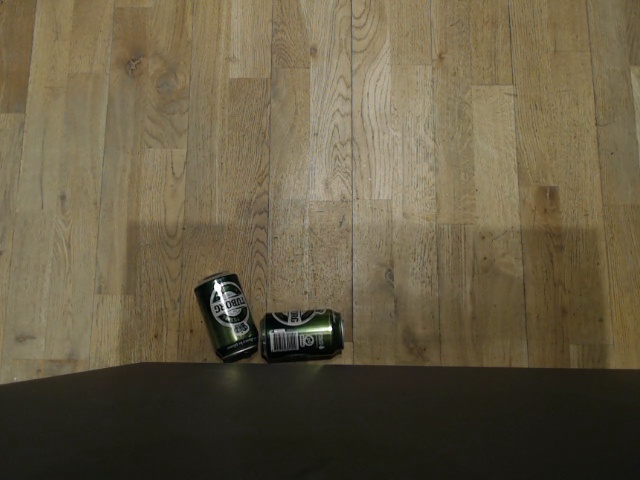beer: (193, 270, 260, 361), (260, 309, 343, 363)
